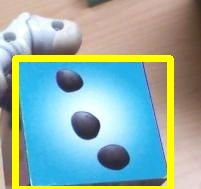Blue3: (15, 58, 170, 189)
